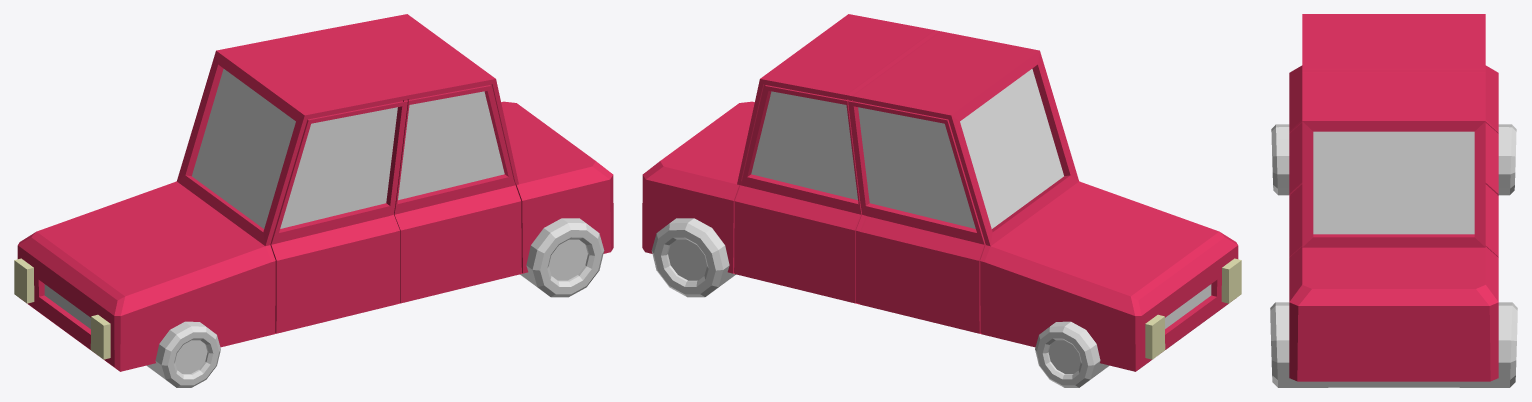
The model's file is mesh_01_01_car.fbx.
3 views of the same model, side by side, from view 1: azimuth 30°, elevation 25°; view 2: azimuth 150°, elevation 25°; view 3: azimuth 270°, elevation 25° (orthographic). The views are drawn at different scales.
Parts seen in each view (by area): view 1: Car; view 2: Car; view 3: Car.
Part boxes in pixels (bbox=[...]): Car: bbox=[14, 14, 613, 387]; Car: bbox=[642, 14, 1241, 387]; Car: bbox=[1270, 14, 1517, 387].
Bounding box in the file's own units: 1151 × 508 × 469.
